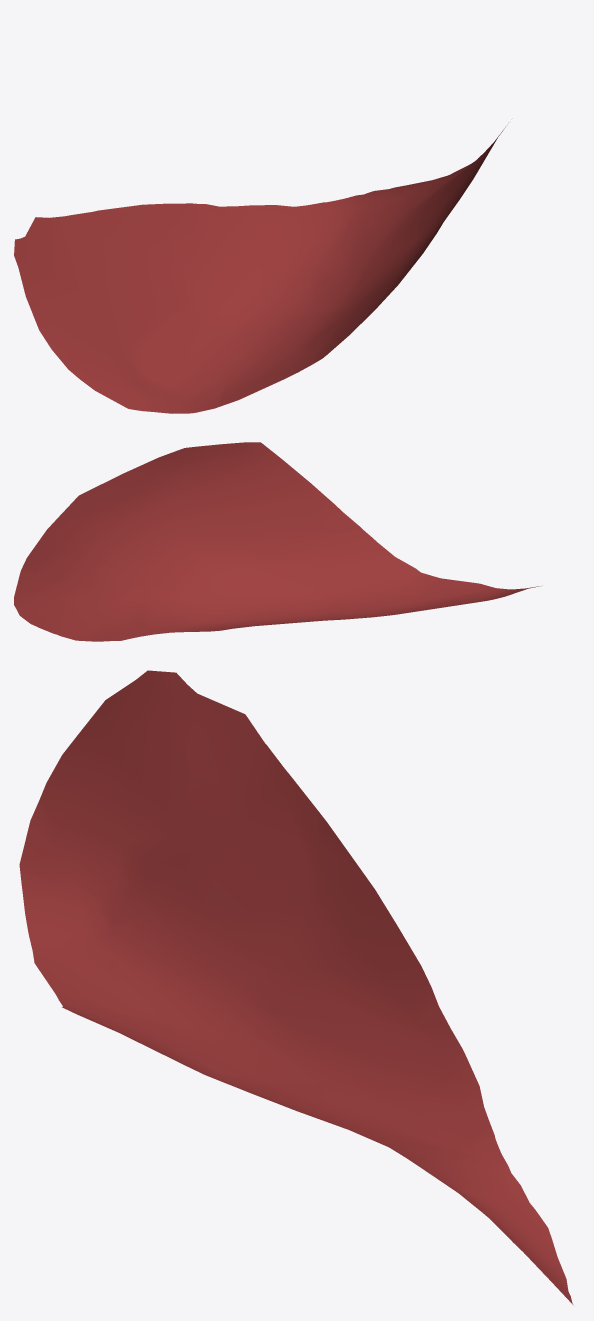
File: supraspinatus-muscle-or.glb
3 views of the same model, one above another, from view 1: azimuth 30°, elevation 25°; view 2: azimuth 150°, elevation 25°; view 3: azimuth 270°, elevation 25° (orthographic). The views are drawn at different scales.
Parts seen in each view (by area): view 1: Supraspinatus muscle.or; view 2: Supraspinatus muscle.or; view 3: Supraspinatus muscle.or.
Part boxes in pixels (x1,y1,x2,y2): Supraspinatus muscle.or: (14,127,505,413); Supraspinatus muscle.or: (14,442,542,641); Supraspinatus muscle.or: (19,670,573,1304).
Size of the model in its own units: 0.0647 by 0.0204 by 0.0349.
